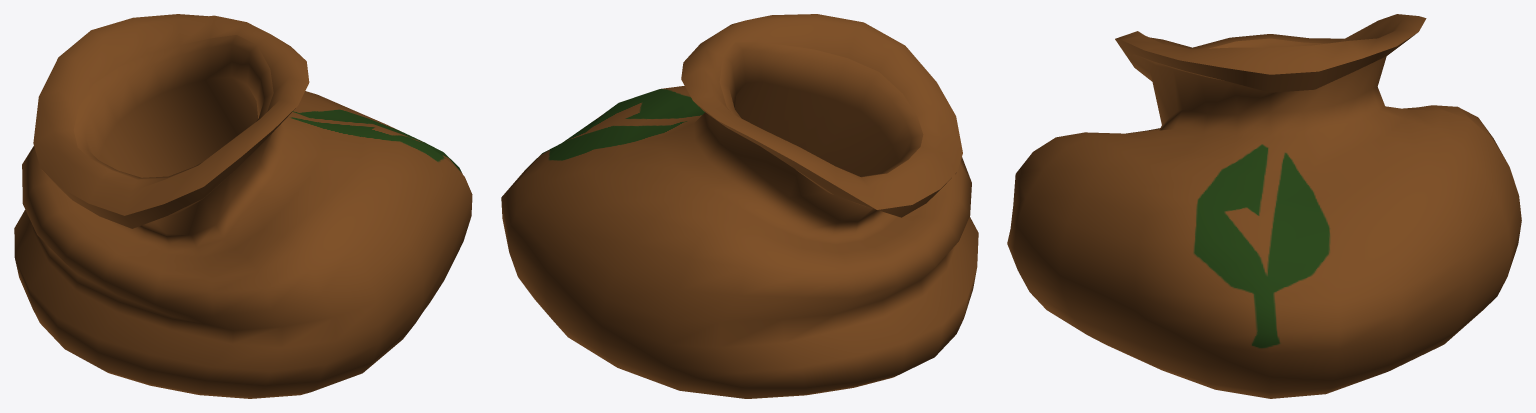
File: sem_zaadzak_colour.fbx
The picture shows the model from 3 angles, left to right: view 1: azimuth 30°, elevation 25°; view 2: azimuth 150°, elevation 25°; view 3: azimuth 270°, elevation 25°; orthographic projection. The views are drawn at different scales.
Parts seen in each view (by area): view 1: pSphere1; view 2: pSphere1; view 3: pSphere1.
Part boxes in pixels (box(x1,y1,x2,y2)): pSphere1: box(14, 14, 472, 398); pSphere1: box(501, 14, 978, 398); pSphere1: box(1007, 14, 1521, 398).
Size of the model in its own units: 8.64 by 5.72 by 9.08.
Materials: 1 (1 with a texture image).
